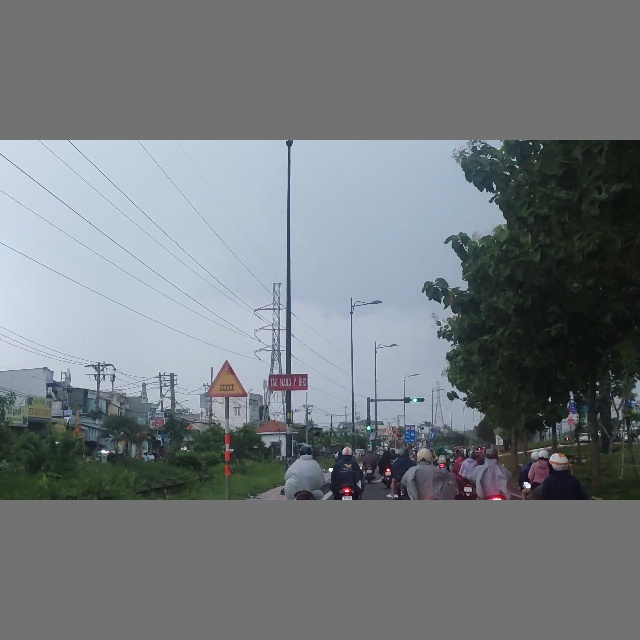I.407a: (430, 433, 435, 438)
W.210: (204, 359, 248, 398)
